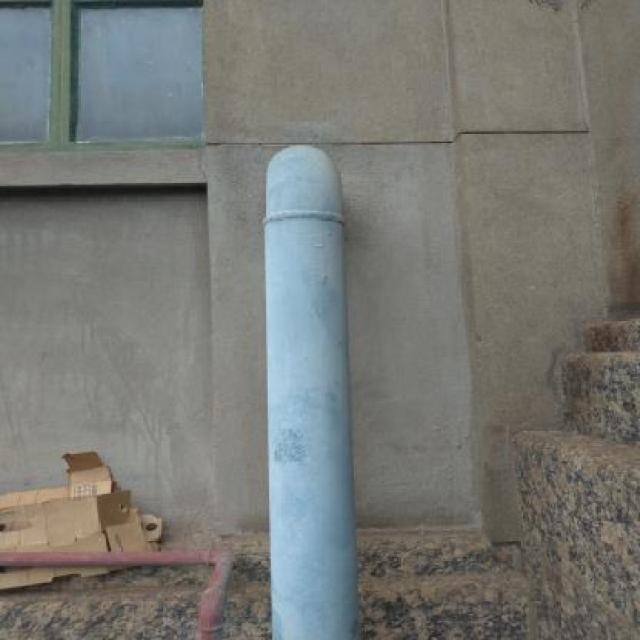gas: (268, 143, 359, 638), (5, 551, 235, 640)
